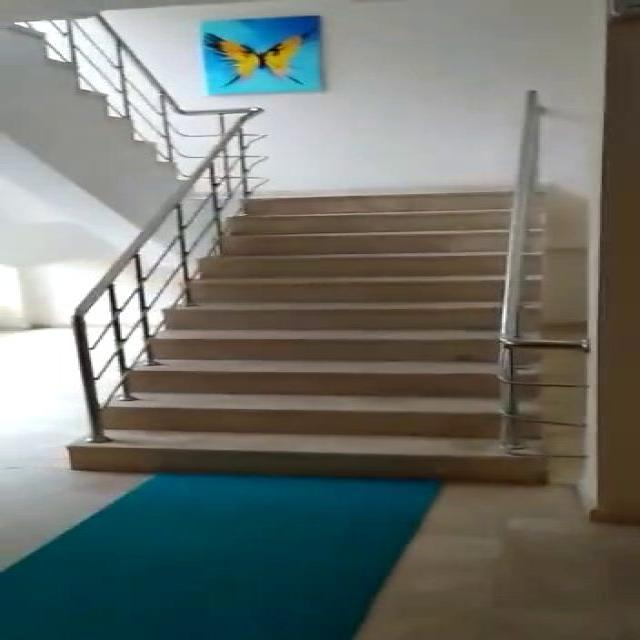stair: (74, 180, 572, 491)
